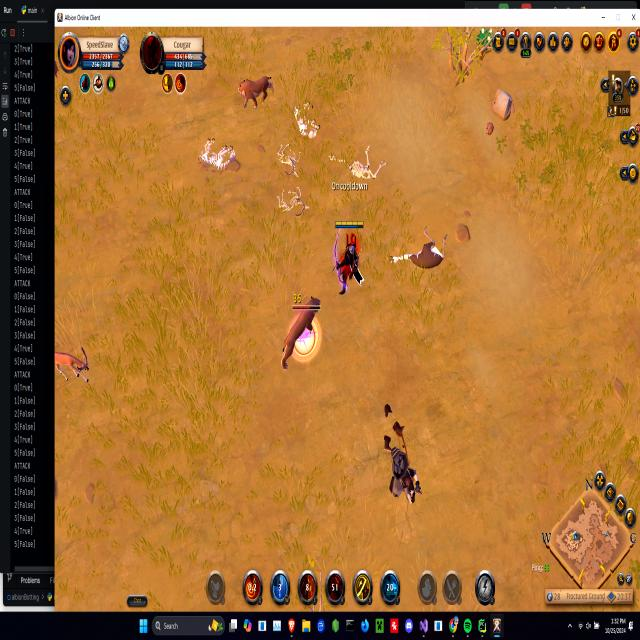hide: (476, 26, 491, 51)
mob: (388, 222, 448, 279)
ore: (378, 433, 425, 516), (278, 290, 322, 375), (237, 69, 274, 119), (55, 342, 95, 388)
red: (334, 217, 366, 297)
